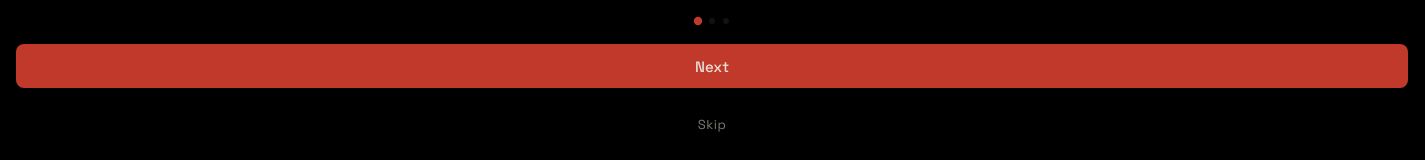
Scenario: Onboarding page › shows Begin button on last card
The width and height of the screenshot is (1425, 160).
Click the button "Next": (712, 66) [16,44,1408,88]
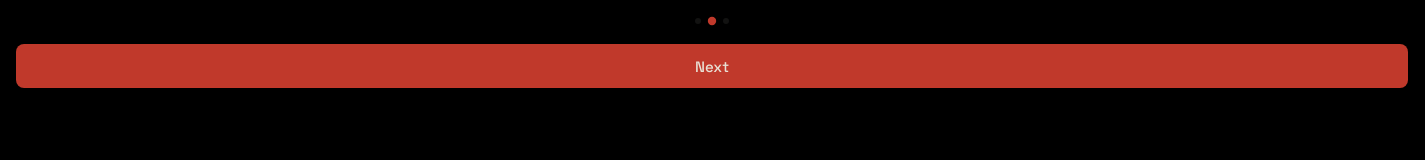
Click the button "Next": (712, 66) [16,44,1408,88]
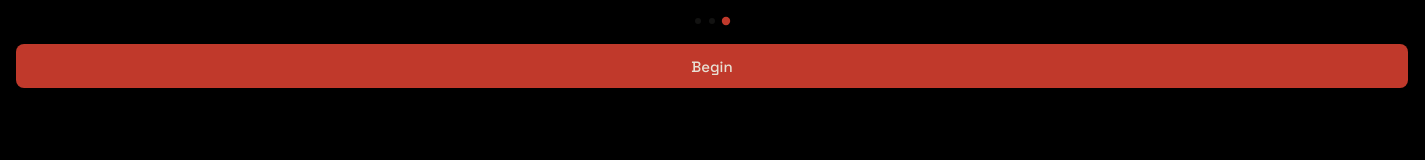
Now the button "Begin" is shown, box [16,44,1408,88]
Now the button "Next" is gone
